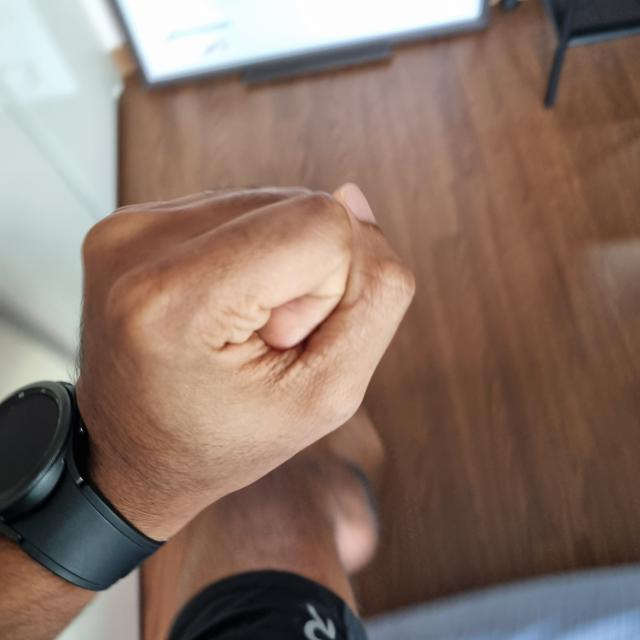Rock: (0, 207, 416, 639)
